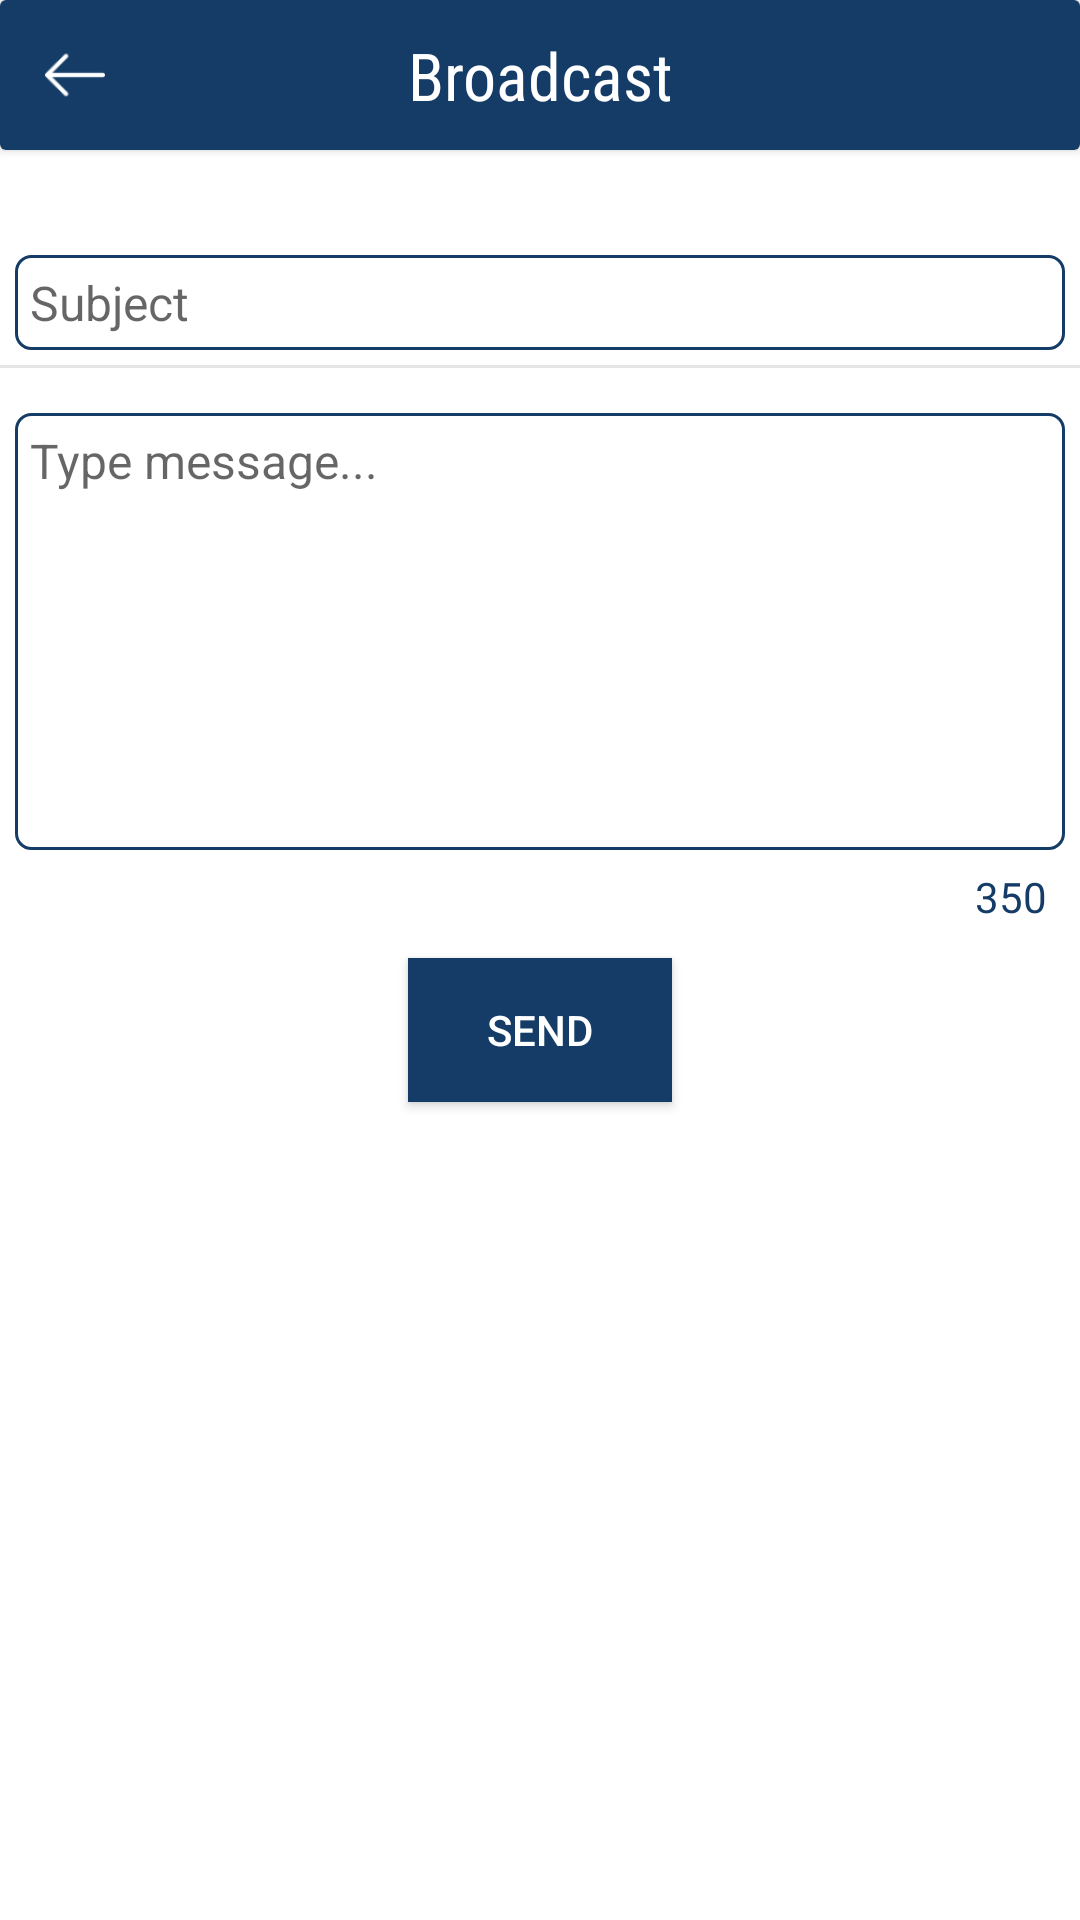

Screen size 1080 × 1920. Icon name, then its center in pixels as (x,y):
backarrow: (75,75)
